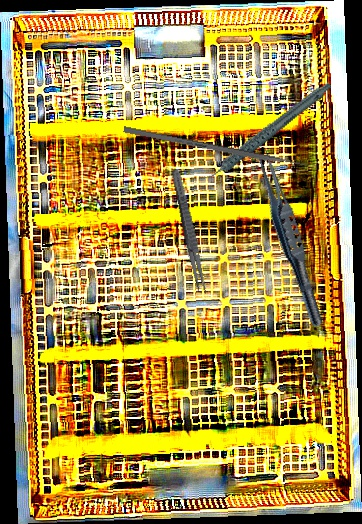Dressing Forceps: (168, 168, 211, 296)
Handpiece: (184, 80, 346, 184)
Pusher: (123, 126, 318, 171)
Tissue Forceps: (247, 141, 332, 331)
